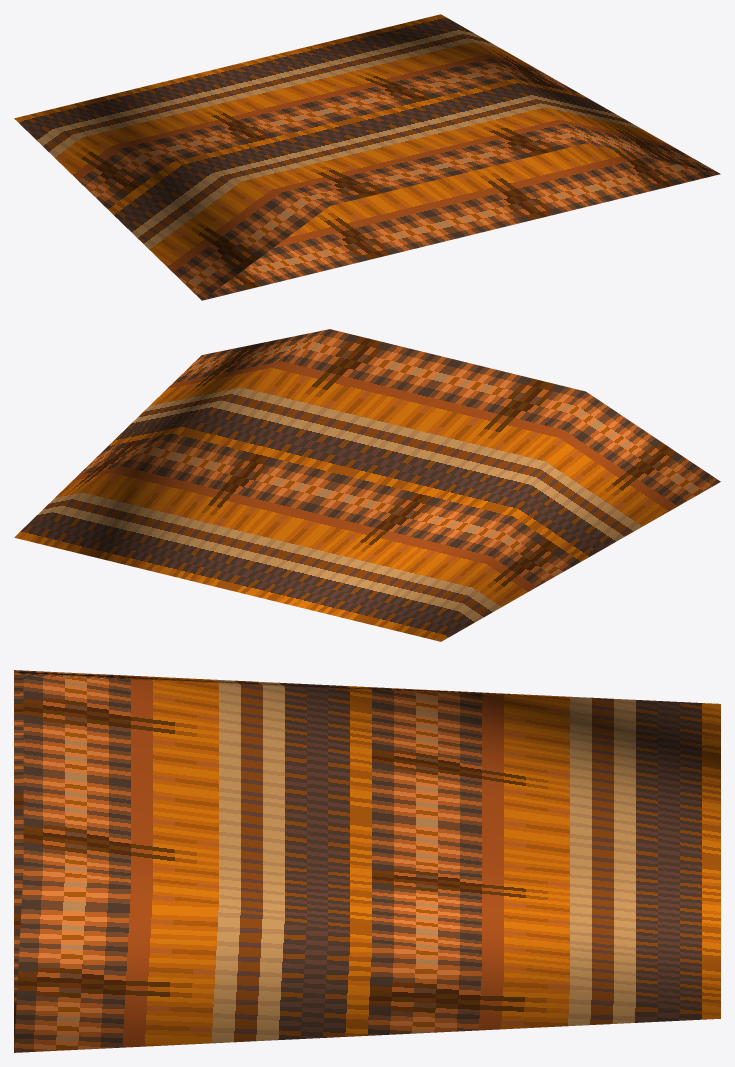
File: 2353skirt00_c.gltf
The picture shows the model from 3 angles, top to bottom: view 1: azimuth 30°, elevation 25°; view 2: azimuth 150°, elevation 25°; view 3: azimuth 270°, elevation 25°; orthographic projection. The views are drawn at different scales.
Visible parts, largest first — view 1: 2353skirt00_c; view 2: 2353skirt00_c; view 3: 2353skirt00_c.
Boxes of the visible parts, <box> form: 2353skirt00_c: <box>14,14,720,300</box>; 2353skirt00_c: <box>14,329,720,641</box>; 2353skirt00_c: <box>14,670,720,1052</box>.
Bounding box in the file's own units: 0.7896 × 0.0879 × 0.6162.
Materials: 1 (1 with a texture image).
